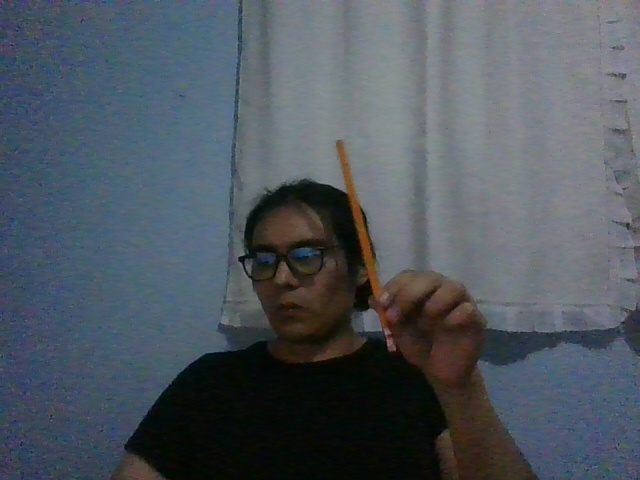lapiz: (335, 139, 397, 352)
